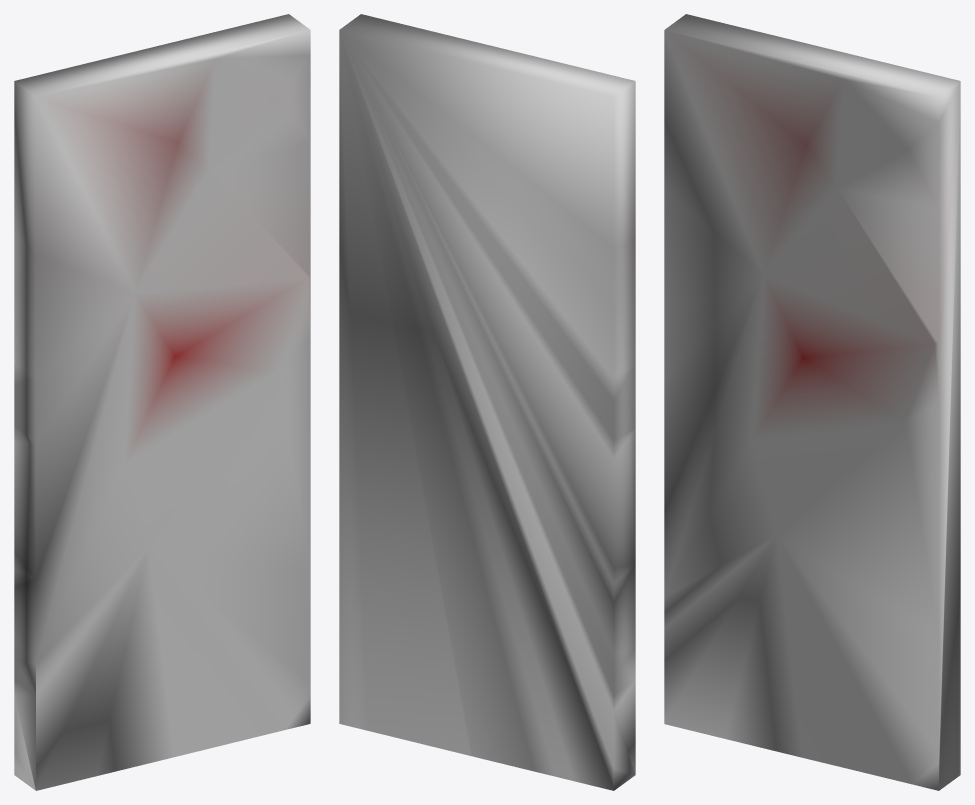
The model's file is SM_FA_Factory_W145_H350.fbx.
3 views of the same model, side by side, from view 1: azimuth 30°, elevation 25°; view 2: azimuth 150°, elevation 25°; view 3: azimuth 330°, elevation 25° (orthographic).
Visible parts, largest first — view 1: SM_FA_Factory_W145_H350; view 2: SM_FA_Factory_W145_H350; view 3: SM_FA_Factory_W145_H350.
Boxes of the visible parts, bbox=[...] form: SM_FA_Factory_W145_H350: bbox=[14, 14, 310, 790]; SM_FA_Factory_W145_H350: bbox=[339, 14, 635, 790]; SM_FA_Factory_W145_H350: bbox=[664, 14, 960, 790].
Bounding box in the file's own units: 145 × 20 × 350.
